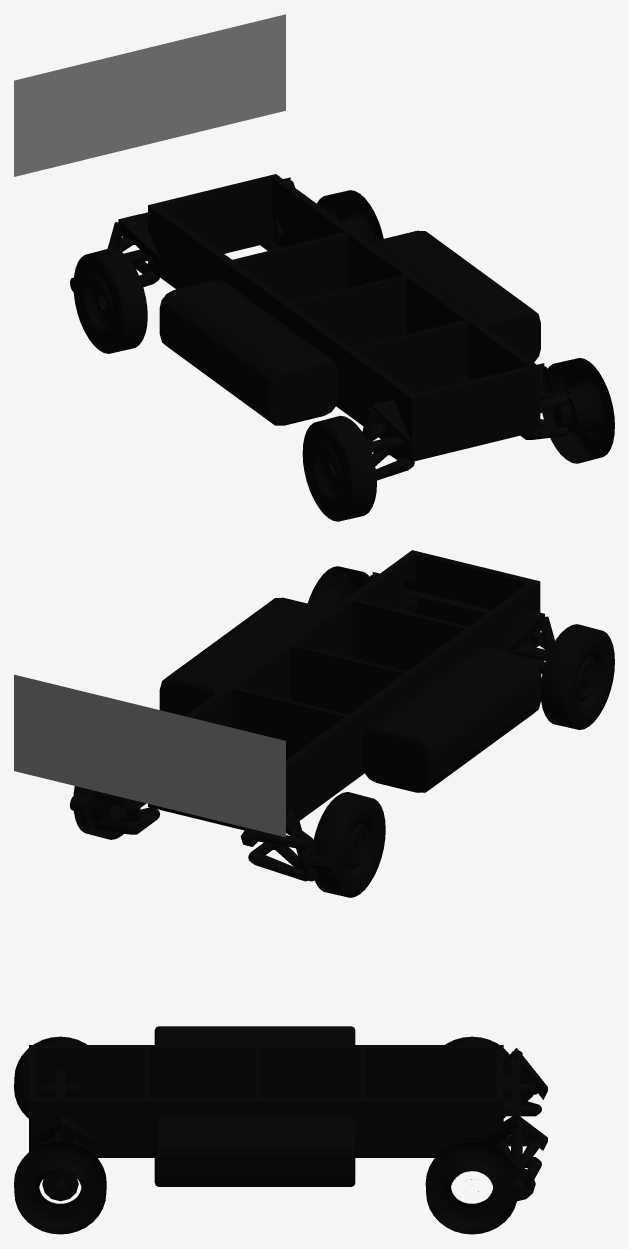
File: podvozek.obj
The picture shows the model from 3 angles, top to bottom: view 1: azimuth 30°, elevation 25°; view 2: azimuth 150°, elevation 25°; view 3: azimuth 270°, elevation 25°; orthographic projection. The views are drawn at different scales.
Visible parts, largest first — view 1: podvozek, Plane.002, nadrze, wheels; view 2: podvozek, Plane.002, nadrze, wheels; view 3: podvozek, nadrze, wheels.
Part boxes in pixels (x1,y1,x2,y2): podvozek: [70, 174, 579, 480]; Plane.002: [14, 14, 285, 176]; nadrze: [159, 230, 540, 425]; wheels: [73, 190, 614, 521]; podvozek: [70, 550, 593, 881]; Plane.002: [14, 674, 285, 837]; nadrze: [159, 597, 541, 792]; wheels: [73, 566, 614, 897]; podvozek: [29, 1045, 547, 1201]; nadrze: [154, 1026, 355, 1186]; wheels: [14, 1036, 517, 1234].
Size of the model in its own units: 1.25 by 0.935 by 2.66.
Materials: 2 (2 with a texture image).
